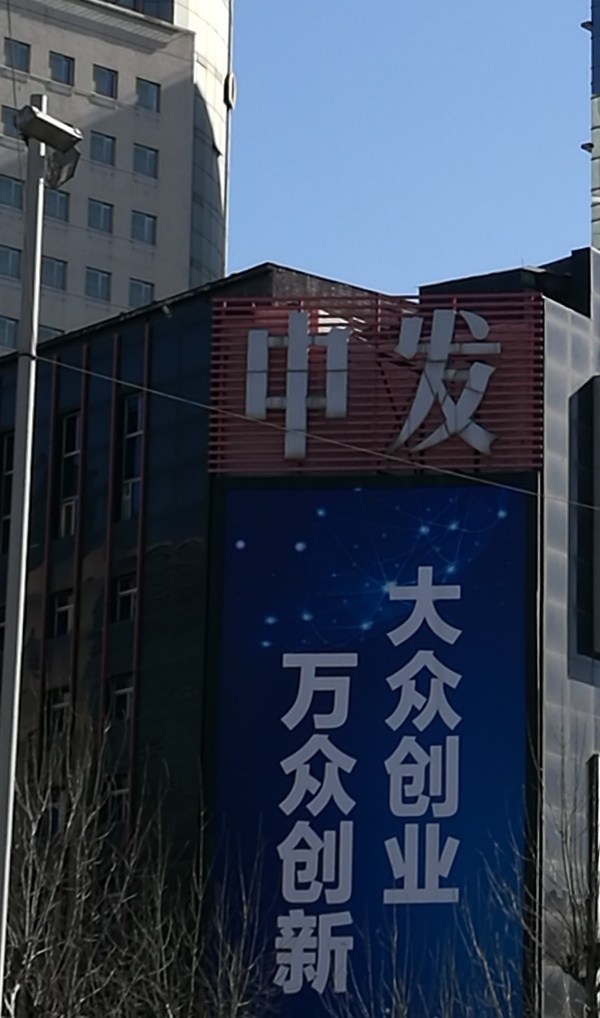text: (449, 566, 465, 906), (273, 652, 288, 995), (289, 652, 304, 995), (305, 652, 320, 995), (321, 652, 336, 995), (337, 652, 352, 995), (385, 566, 400, 906), (401, 566, 416, 906), (417, 566, 432, 906), (433, 566, 448, 906), (257, 308, 272, 461), (273, 308, 288, 461), (289, 308, 304, 461), (305, 308, 320, 461), (321, 308, 336, 461), (337, 308, 352, 461), (353, 308, 368, 461), (369, 308, 384, 461), (385, 308, 400, 461), (401, 308, 416, 461), (417, 308, 432, 461), (433, 308, 448, 461), (449, 308, 464, 461), (465, 308, 480, 461), (481, 308, 496, 461), (246, 308, 256, 461), (353, 652, 357, 995), (497, 308, 504, 461), (269, 652, 272, 995), (382, 566, 384, 906)
